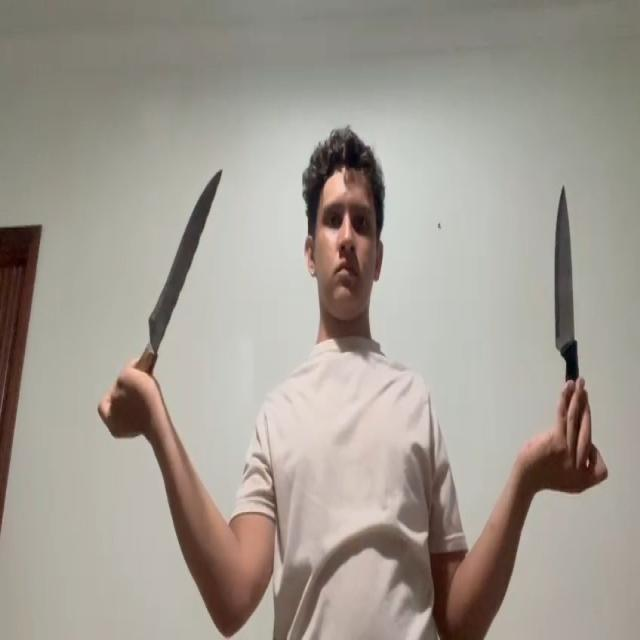knife: (147, 168, 224, 336), (554, 183, 578, 350)
